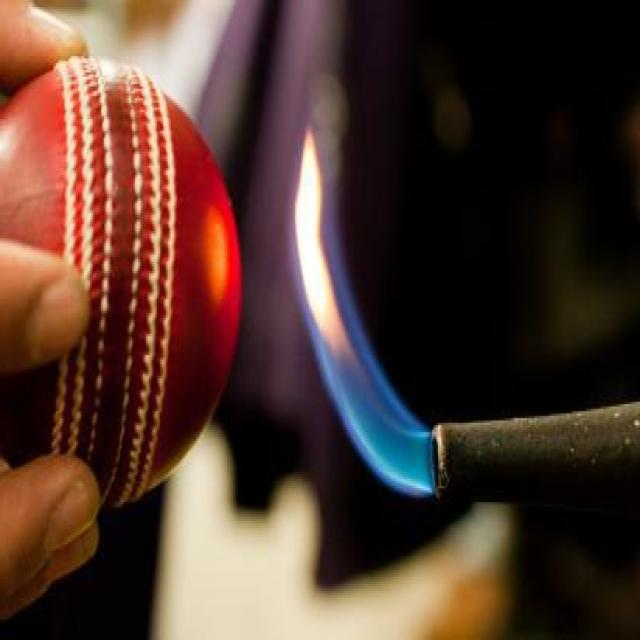ball: (0, 61, 249, 502)
